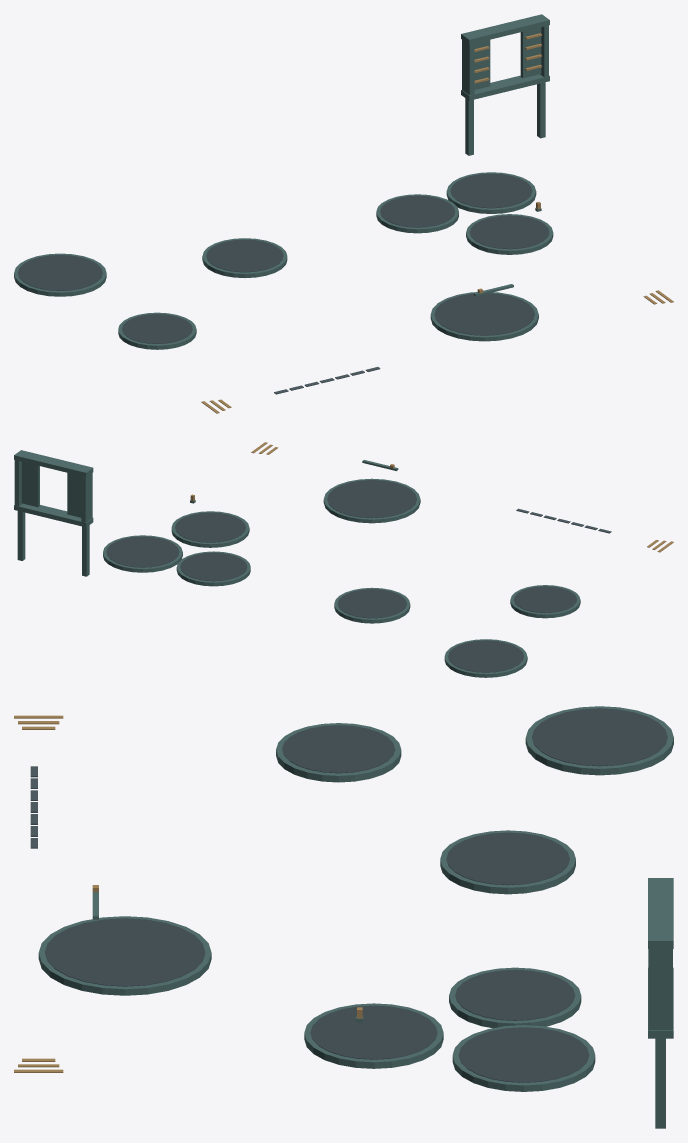
Rendered from R08-architecture.glb.
3 renders of one model, top to bottom at view 1: azimuth 30°, elevation 25°; view 2: azimuth 150°, elevation 25°; view 3: azimuth 270°, elevation 25°, orthographic. The views are drawn at different scales.
Visible parts, largest first — view 1: PR080 • wet instrument plinth, PR071 • wet instrument plinth, PR077 • wet instrument plinth, PR072 • wet instrument plinth, PR075 • wet instrument plinth, PR073 • wet instrument plinth, PR079 • wet instrument plinth, Rain vent • lintel, PR080 • verdigris surround, PR071 • verdigris surround, Rain vent • sill, PR072 • verdigris surround (+7 smaller); view 2: PR080 • wet instrument plinth, PR071 • wet instrument plinth, PR077 • wet instrument plinth, PR072 • wet instrument plinth, PR075 • wet instrument plinth, PR073 • wet instrument plinth, PR079 • wet instrument plinth, Rain vent • lintel, PR080 • verdigris surround, RainShutterRight, PR071 • verdigris surround, Rain vent • sill (+10 smaller); view 3: PR080 • wet instrument plinth, PR071 • wet instrument plinth, PR077 • wet instrument plinth, PR072 • wet instrument plinth, PR075 • wet instrument plinth, PR073 • wet instrument plinth, PR079 • wet instrument plinth, PR080 • verdigris surround, PR071 • verdigris surround, PR077 • verdigris surround, PR072 • verdigris surround, PR075 • verdigris surround (+5 smaller).
Part boxes in pixels (<box>): PR080 • wet instrument plinth: <box>434,293,534,335</box>; PR071 • wet instrument plinth: <box>18,255,102,290</box>; PR077 • wet instrument plinth: <box>450,173,532,208</box>; PR072 • wet instrument plinth: <box>470,215,549,249</box>; PR075 • wet instrument plinth: <box>206,239,283,272</box>; PR073 • wet instrument plinth: <box>380,195,455,227</box>; PR079 • wet instrument plinth: <box>122,314,192,343</box>; Rain vent • lintel: <box>461,14,549,44</box>; PR080 • verdigris surround: <box>430,292,538,341</box>; PR071 • verdigris surround: <box>14,253,106,296</box>; Rain vent • sill: <box>461,74,549,100</box>; PR072 • verdigris surround: <box>466,214,553,254</box>; PR080 • wet instrument plinth: <box>327,480,416,518</box>; PR071 • wet instrument plinth: <box>448,640,523,672</box>; PR077 • wet instrument plinth: <box>106,536,179,567</box>; PR072 • wet instrument plinth: <box>175,512,245,542</box>; PR075 • wet instrument plinth: <box>337,589,406,618</box>; PR073 • wet instrument plinth: <box>180,552,247,581</box>; PR079 • wet instrument plinth: <box>514,586,576,613</box>; Rain vent • lintel: <box>14,450,93,477</box>; PR080 • verdigris surround: <box>323,478,420,523</box>; RainShutterRight: <box>21,462,39,507</box>; PR071 • verdigris surround: <box>444,639,527,677</box>; Rain vent • sill: <box>14,503,93,527</box>; PR080 • wet instrument plinth: <box>45,918,205,986</box>; PR071 • wet instrument plinth: <box>532,708,667,766</box>; PR077 • wet instrument plinth: <box>458,1027,589,1082</box>; PR072 • wet instrument plinth: <box>310,1005,437,1059</box>; PR075 • wet instrument plinth: <box>446,832,569,885</box>; PR073 • wet instrument plinth: <box>455,969,575,1020</box>; PR079 • wet instrument plinth: <box>282,725,395,773</box>; PR080 • verdigris surround: <box>38,916,211,995</box>; PR071 • verdigris surround: <box>525,706,673,775</box>; PR077 • verdigris surround: <box>452,1025,595,1091</box>; PR072 • verdigris surround: <box>304,1003,443,1068</box>; PR075 • verdigris surround: <box>440,830,575,894</box>.
Size of the model in its own units: 11.39 by 2.46 by 7.48.
